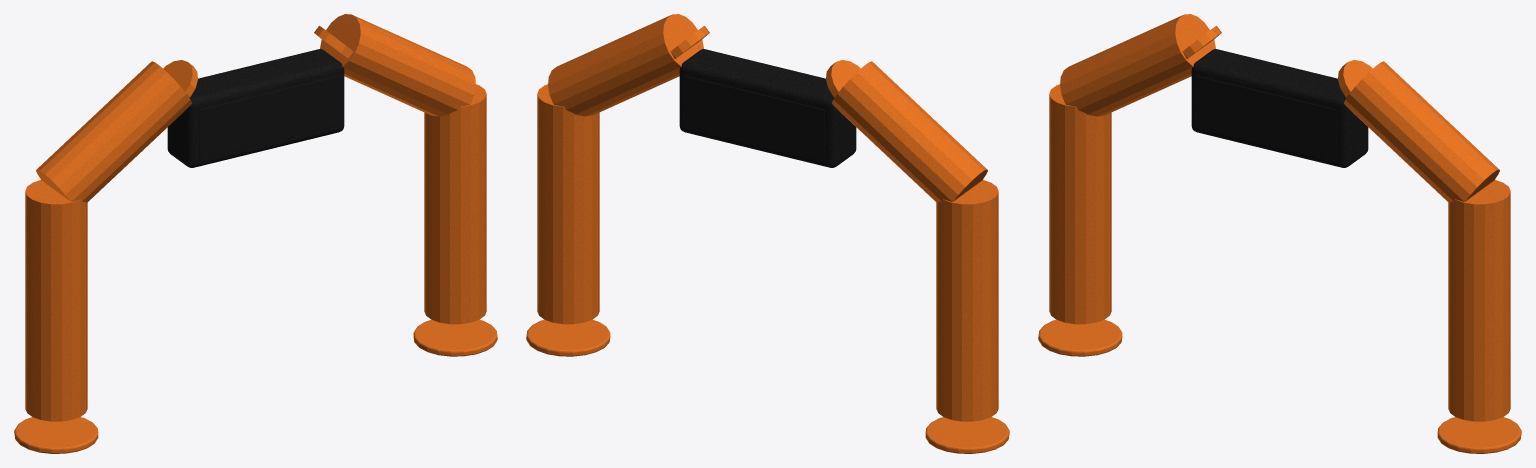
The model's file is arch_orange_blank.dae.
3 views of the same model, side by side, from view 1: azimuth 30°, elevation 25°; view 2: azimuth 150°, elevation 25°; view 3: azimuth 330°, elevation 25° (orthographic).
Visible parts, largest first — view 1: arch_leg_L, arch_leg_R, arch_arm_L, arch_arm_R, arch_block, arch_logo_plate_0, arch_foot_L, arch_foot_R, arch_conn_L; view 2: arch_leg_L, arch_leg_R, arch_arm_L, arch_arm_R, arch_block, arch_logo_plate_1, arch_foot_L, arch_foot_R, arch_conn_L; view 3: arch_leg_R, arch_leg_L, arch_arm_R, arch_arm_L, arch_block, arch_logo_plate_0, arch_foot_R, arch_foot_L, arch_conn_R.
Boxes of the visible parts, x1,y1,x2,y2 form: arch_leg_L: [25, 180, 87, 421]; arch_leg_R: [424, 84, 486, 324]; arch_arm_L: [36, 61, 191, 202]; arch_arm_R: [320, 14, 475, 116]; arch_block: [167, 49, 344, 167]; arch_logo_plate_0: [199, 76, 337, 159]; arch_foot_L: [14, 417, 98, 453]; arch_foot_R: [413, 319, 497, 356]; arch_conn_L: [163, 60, 197, 97]; arch_leg_L: [936, 180, 998, 421]; arch_leg_R: [537, 84, 599, 324]; arch_arm_L: [832, 61, 987, 202]; arch_arm_R: [548, 14, 703, 116]; arch_block: [679, 49, 856, 167]; arch_logo_plate_1: [686, 76, 824, 159]; arch_foot_L: [925, 417, 1009, 453]; arch_foot_R: [526, 319, 610, 356]; arch_conn_L: [826, 60, 860, 97]; arch_leg_R: [1448, 180, 1510, 421]; arch_leg_L: [1049, 84, 1111, 324]; arch_arm_R: [1344, 61, 1499, 202]; arch_arm_L: [1060, 14, 1215, 116]; arch_block: [1191, 49, 1368, 167]; arch_logo_plate_0: [1198, 76, 1336, 159]; arch_foot_R: [1437, 417, 1521, 453]; arch_foot_L: [1038, 319, 1122, 356]; arch_conn_R: [1338, 60, 1372, 97].
Bounding box in the file's own units: 9.59 × 1.49 × 6.75.
3 materials, 3 textured.
